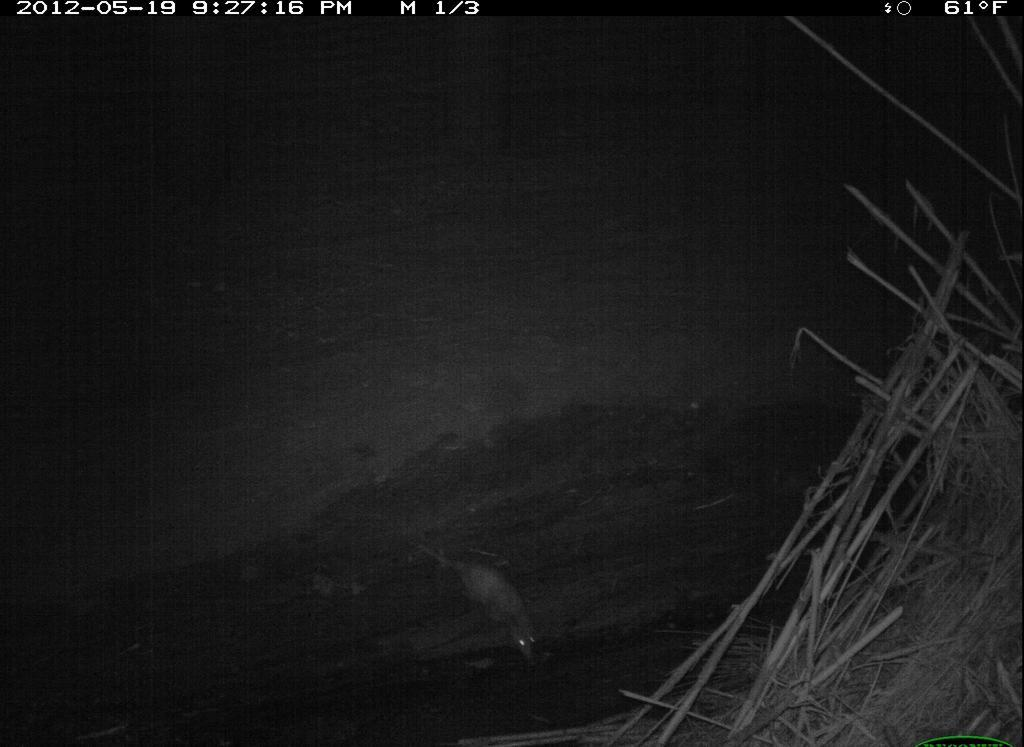opossum: (413, 543, 548, 673)
